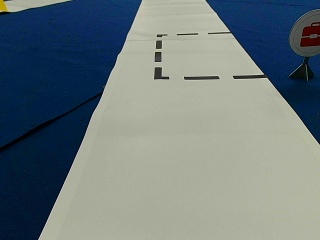company: (289, 9, 319, 55)
